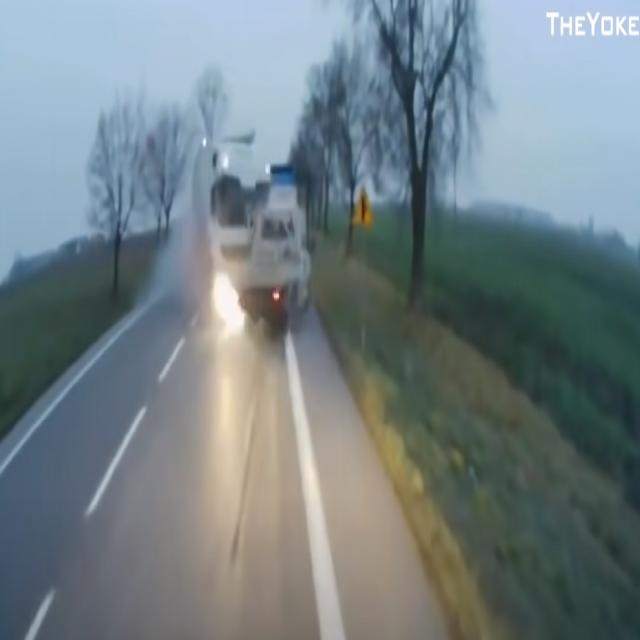accident: (192, 136, 327, 354)
